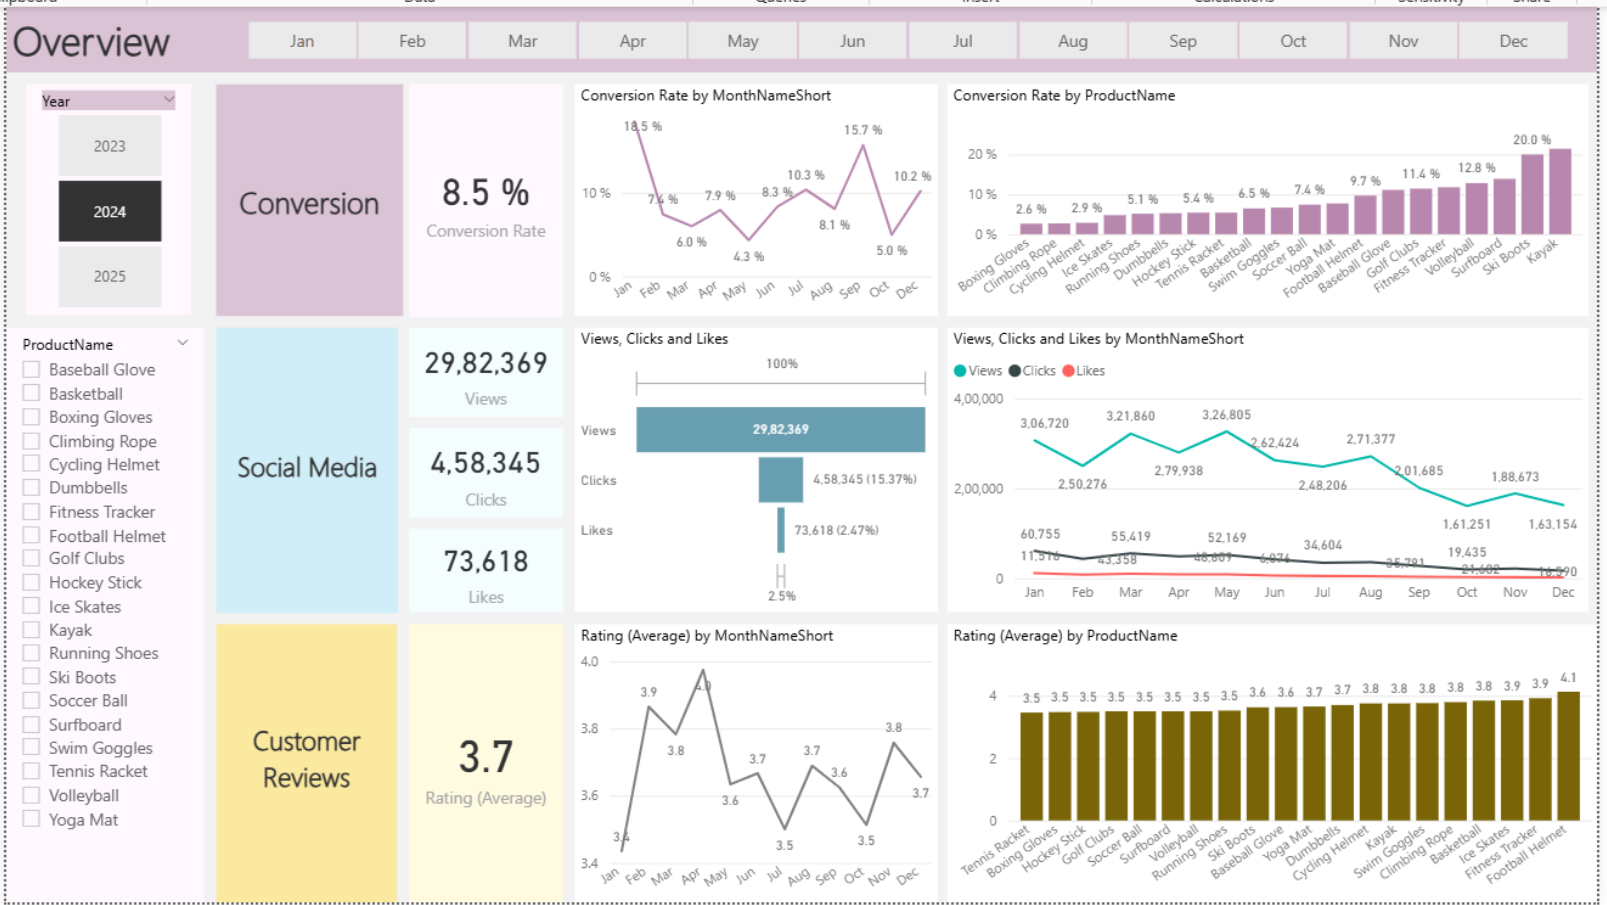

This screenshot's page, from the dashboard's own definition file:
{"tool":"powerbi","page":{"name":"Overview","canvas":[1280,720],"ordinal":0},"visuals":[{"type":"textbox","box":[0,0,1280,52.6],"z":0},{"type":"slicer","fields":{"Values":["dim_products.ProductName"]},"box":[0,61.6,159.5,658.5],"z":1000},{"type":"card","fields":{"Values":["_Calculations.Conversion Rate"]},"box":[324.1,61.9,123.9,186.8],"z":2000},{"type":"card","fields":{"Values":["_Calculations.Rating (Average)"]},"box":[324.1,496.5,123.9,224],"z":3000},{"type":"lineChart","fields":{"Y":["_Calculations.Conversion Rate"],"Category":["Calendar.MonthNameShort"]},"box":[457.1,61.9,292.3,186.7],"z":4000},{"type":"columnChart","fields":{"Category":["dim_products.ProductName"],"Y":["_Calculations.Conversion Rate"]},"box":[756.7,61.9,516.3,186.7],"z":5000},{"type":"slicer","fields":{"Values":["Calendar.Year"]},"box":[189.4,4.6,249.5,43.7],"z":6000},{"type":"slicer","fields":{"Values":["Calendar.MonthNameShort"]},"box":[448,4.6,832.3,43.7],"z":7000},{"type":"lineChart","fields":{"Y":["_Calculations.Views","_Calculations.Clicks","_Calculations.Likes"],"Category":["Calendar.MonthNameShort"]},"box":[756.6,258.1,516.1,229.2],"z":8000},{"type":"lineChart","fields":{"Category":["Calendar.MonthNameShort"],"Y":["_Calculations.Rating (Average)"]},"box":[457.1,496.3,292.3,224],"z":9000},{"type":"columnChart","fields":{"Category":["dim_products.ProductName"],"Y":["_Calculations.Rating (Average)"]},"box":[756.6,496.5,523.4,224],"z":10000},{"type":"funnel","fields":{"Y":["_Calculations.Views","_Calculations.Clicks","_Calculations.Likes"]},"box":[457.3,258.1,292.1,229.2],"z":11000},{"type":"card","fields":{"Values":["_Calculations.Views"]},"box":[324.2,257.7,123.8,71.9],"z":12000},{"type":"textbox","box":[168.5,61.9,150.3,186.7],"z":13000},{"type":"textbox","box":[168.5,257.7,146.6,229.5],"z":14000},{"type":"textbox","box":[168.5,496.3,145.7,224],"z":15000},{"type":"card","fields":{"Values":["_Calculations.Clicks"]},"box":[324.2,338.8,123.8,71.9],"z":16000},{"type":"card","fields":{"Values":["_Calculations.Likes"]},"box":[324.2,419.8,123.8,67.4],"z":17000}]}

Visuals, with their boxes on the page's 1280x720 design canvas (x1, y1, x2, y2). These are canvas units, not pixel positions in the 1607x905 screenshot, which may show the page scaled, cropped or inside an application window:
textbox: <bbox>0, 0, 1280, 53</bbox>
slicer - dim_products.ProductName: <bbox>0, 62, 160, 720</bbox>
card - _Calculations.Conversion Rate: <bbox>324, 62, 448, 249</bbox>
card - _Calculations.Rating (Average): <bbox>324, 496, 448, 720</bbox>
lineChart - _Calculations.Conversion Rate x Calendar.MonthNameShort: <bbox>457, 62, 749, 249</bbox>
columnChart - dim_products.ProductName x _Calculations.Conversion Rate: <bbox>757, 62, 1273, 249</bbox>
slicer - Calendar.Year: <bbox>189, 5, 439, 48</bbox>
slicer - Calendar.MonthNameShort: <bbox>448, 5, 1280, 48</bbox>
lineChart - _Calculations.Views x _Calculations.Clicks: <bbox>757, 258, 1273, 487</bbox>
lineChart - Calendar.MonthNameShort x _Calculations.Rating (Average): <bbox>457, 496, 749, 720</bbox>
columnChart - dim_products.ProductName x _Calculations.Rating (Average): <bbox>757, 496, 1280, 720</bbox>
funnel - _Calculations.Views x _Calculations.Clicks: <bbox>457, 258, 749, 487</bbox>
card - _Calculations.Views: <bbox>324, 258, 448, 330</bbox>
textbox: <bbox>168, 62, 319, 249</bbox>
textbox: <bbox>168, 258, 315, 487</bbox>
textbox: <bbox>168, 496, 314, 720</bbox>
card - _Calculations.Clicks: <bbox>324, 339, 448, 411</bbox>
card - _Calculations.Likes: <bbox>324, 420, 448, 487</bbox>
